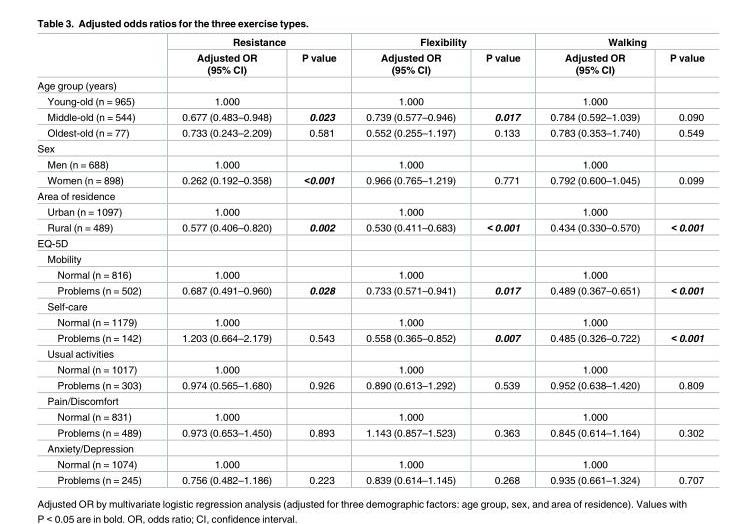table: (36, 37, 703, 485)
table column: (36, 37, 161, 485), (161, 37, 285, 485), (350, 37, 470, 485), (534, 37, 654, 485), (285, 37, 350, 485), (470, 37, 534, 485), (654, 37, 703, 485)
table column header: (36, 37, 703, 77)
table projected row header: (36, 77, 703, 93), (36, 140, 703, 156), (36, 188, 703, 204), (36, 235, 703, 251), (36, 251, 703, 267), (36, 298, 703, 314), (36, 393, 703, 409), (36, 440, 703, 456), (36, 346, 703, 361)
table row: (36, 49, 703, 77), (36, 171, 703, 188), (36, 329, 703, 346), (36, 77, 703, 93), (36, 93, 703, 109), (36, 109, 703, 125), (36, 140, 703, 156), (36, 188, 703, 204), (36, 219, 703, 235), (36, 235, 703, 251), (36, 251, 703, 267), (36, 282, 703, 298), (36, 298, 703, 314), (36, 361, 703, 377), (36, 377, 703, 393), (36, 393, 703, 409), (36, 424, 703, 440), (36, 440, 703, 456), (36, 456, 703, 472), (36, 125, 703, 140), (36, 156, 703, 171), (36, 204, 703, 219), (36, 267, 703, 282), (36, 314, 703, 329), (36, 346, 703, 361), (36, 409, 703, 424), (36, 472, 703, 485), (36, 37, 703, 49)
table spanning cell: (161, 37, 350, 49), (350, 37, 534, 49), (534, 37, 703, 49)
